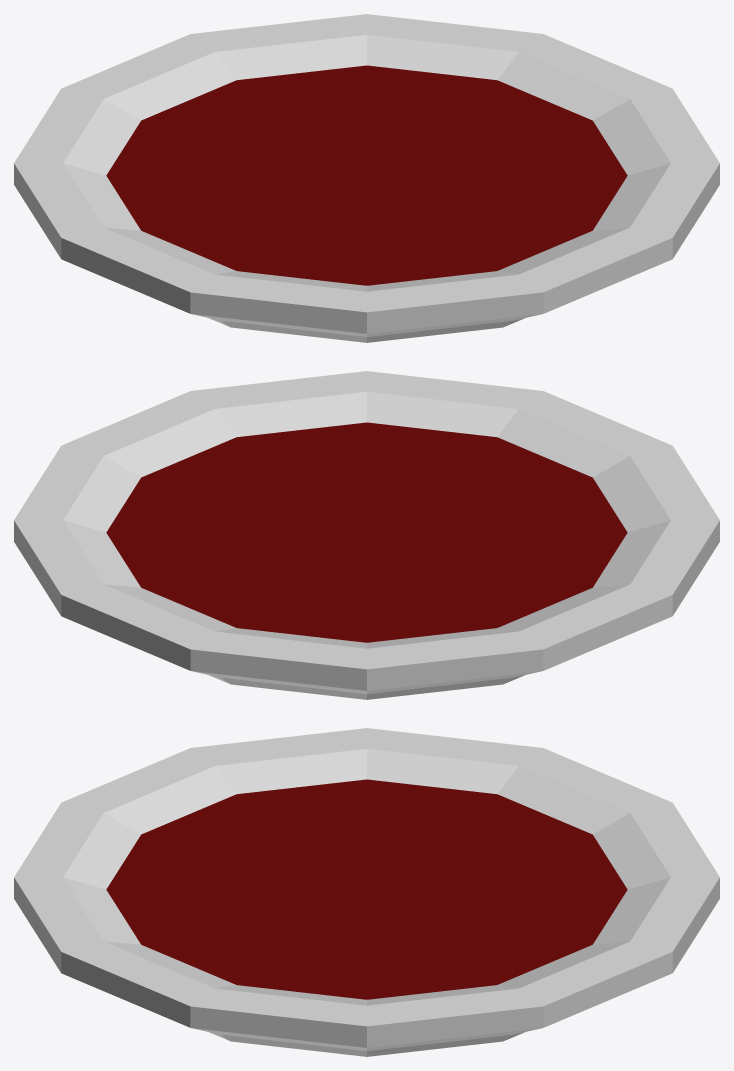
File: tomatoSoup.FBX
The picture shows the model from 3 angles, top to bottom: view 1: azimuth 30°, elevation 25°; view 2: azimuth 150°, elevation 25°; view 3: azimuth 270°, elevation 25°; orthographic projection.
Visible parts, largest first — view 1: plateDinner; view 2: plateDinner; view 3: plateDinner.
Boxes of the visible parts, left/top/right/bottom form: plateDinner: left=14, top=14, right=719, bottom=342; plateDinner: left=14, top=371, right=719, bottom=699; plateDinner: left=14, top=728, right=719, bottom=1056.
Size of the model in its own units: 89.18 by 9 by 89.18.
